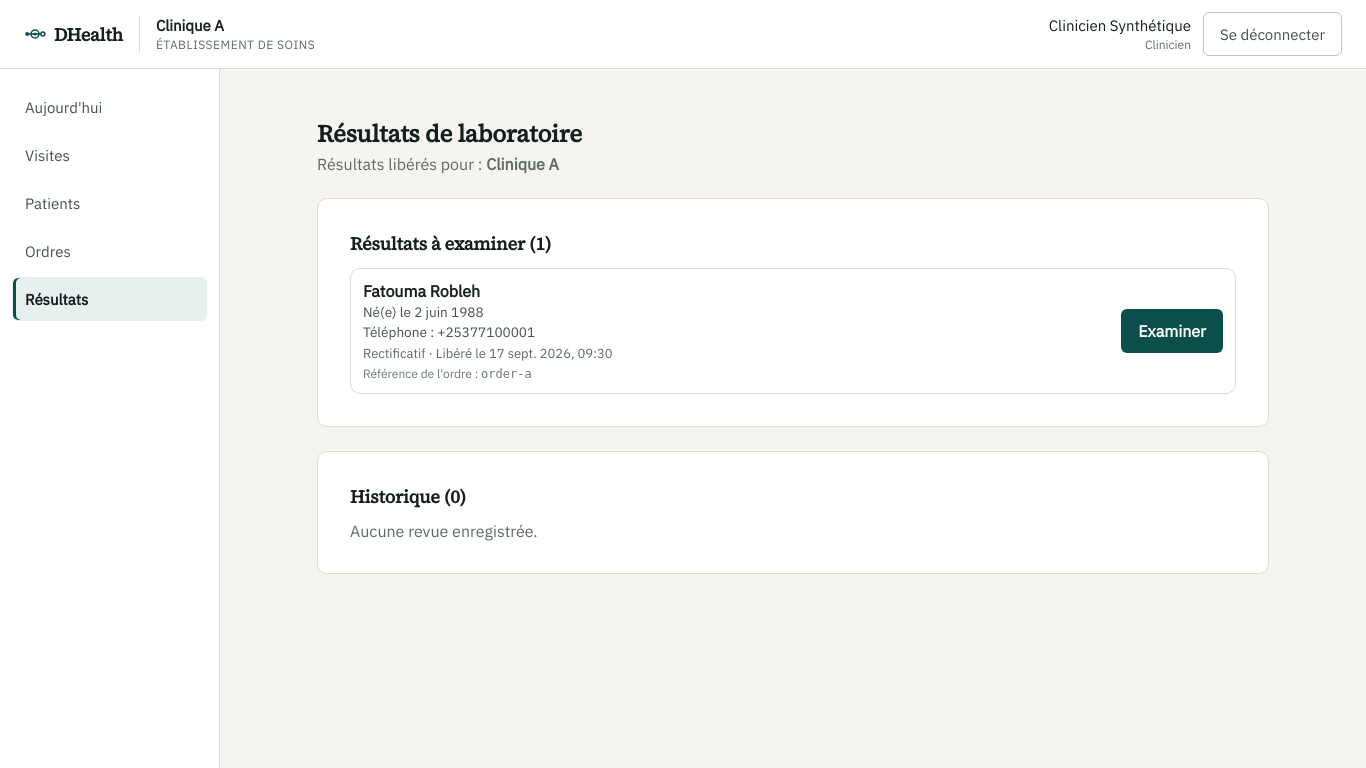
ClinicResultsPage › UI-CUR1: exactly one version tab is named current, and it is the latest one
Click the button "Examiner" at point(1172, 331), box [1121,309,1223,353]
(page scrolled)
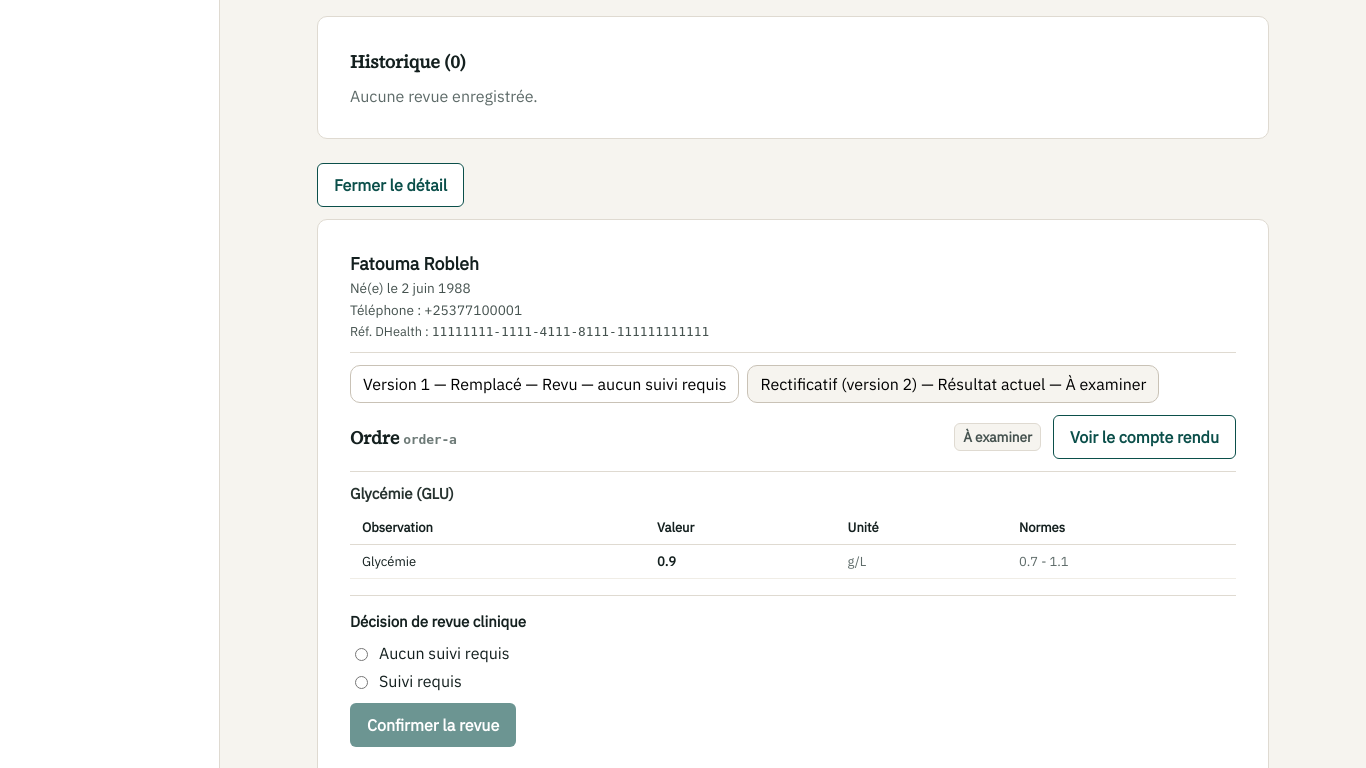
Result: the text "0.9" is shown at [645,544,836,578]
Result: the tab "Rectificatif (version 2) — Résultat actuel — À examiner" is shown at [747,365,1159,403]
Result: the tab "Version 1 — Remplacé — Revu — aucun suivi requis" is shown at [350,365,739,403]
